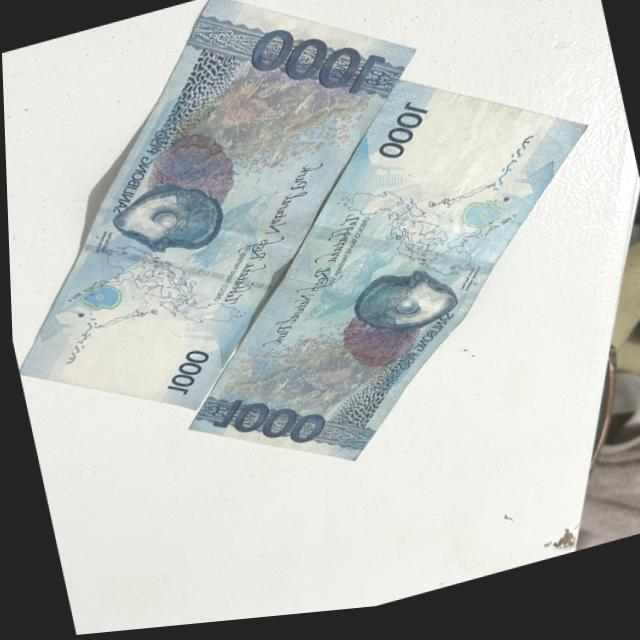1000_pearl: (114, 176, 226, 268), (347, 266, 452, 354)
1000_pearl_watermark: (453, 205, 501, 239), (75, 283, 119, 315)
